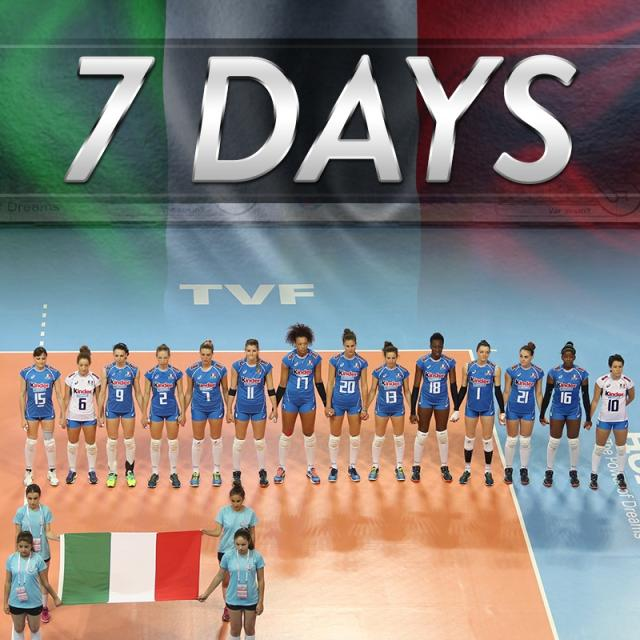body: (267, 487, 618, 568), (266, 322, 336, 486), (174, 338, 236, 488), (198, 478, 262, 623), (358, 340, 420, 482), (448, 338, 507, 487), (406, 331, 461, 484), (538, 338, 594, 488), (194, 525, 266, 639), (224, 337, 278, 489), (96, 341, 151, 488), (496, 339, 551, 486), (11, 482, 64, 624), (582, 352, 636, 491), (49, 486, 218, 530), (139, 342, 188, 490), (17, 346, 67, 488), (56, 344, 106, 486), (324, 327, 369, 483), (1, 529, 62, 639)
